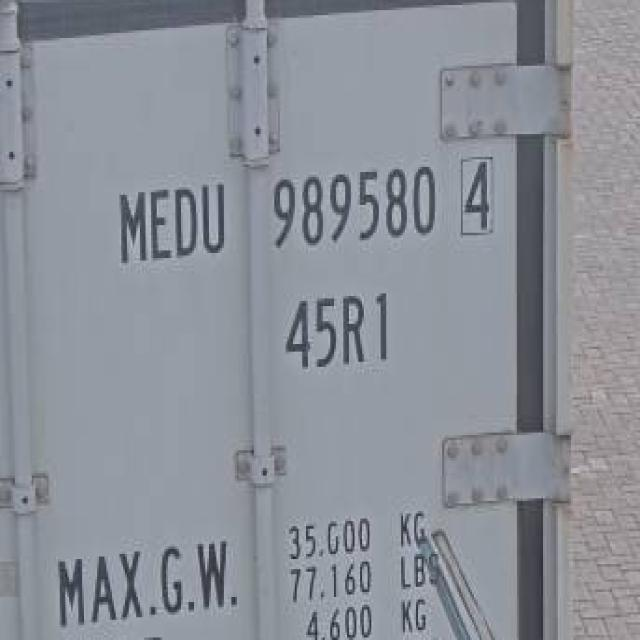dv: (456, 150, 497, 240)
owner: (113, 174, 228, 271)
serial: (264, 158, 442, 250)
size: (269, 285, 408, 379)
